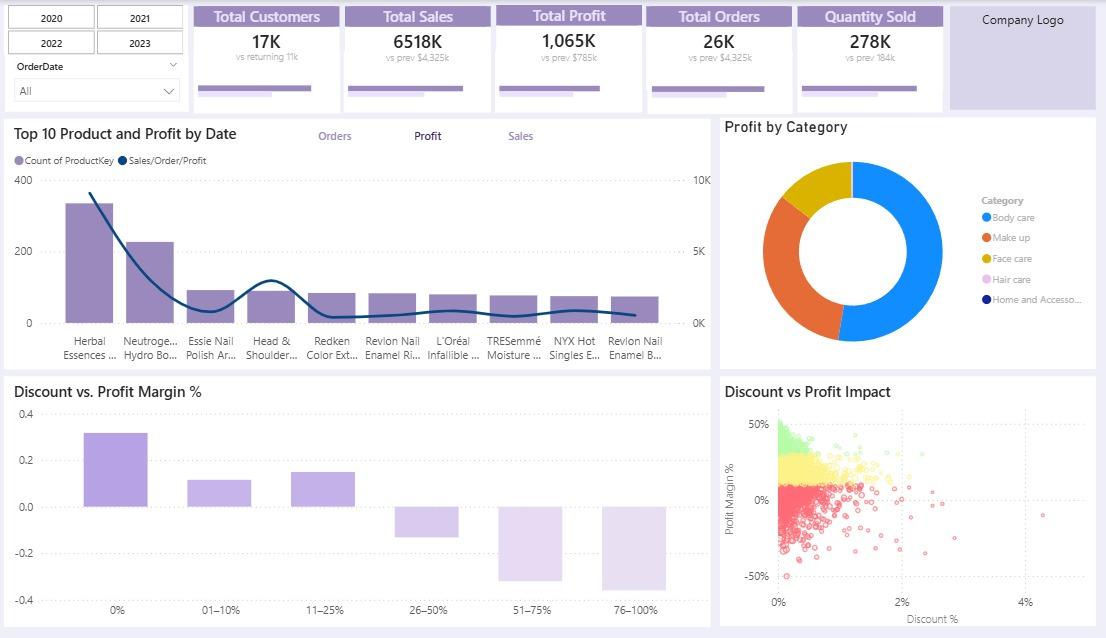

Layout of this report page (visuals, bound fields, positions):
{"tool":"powerbi","page":{"name":"Product Performance","canvas":[1280,720],"ordinal":2},"visuals":[{"type":"lineStackedColumnComboChart","fields":{"Category":["Product Dim.Product"],"Y2":["Measure.Line_Chart_Measures"],"Y":["CountNonNull(Sales Fact.ProductKey)"]},"box":[69.3,130.7,776.1,275],"z":0},{"type":"card","title":"Total Customers","fields":{"Values":["Trends.Total Customers"]},"box":[278.4,6.8,160.2,92],"z":1000},{"type":"advancedSlicerVisual","fields":{"Values":["Date Dim.OrderYear"]},"box":[69.3,5.7,202.3,54.5],"z":2000},{"type":"slicer","fields":{"Values":["Date Dim.OrderDate"]},"box":[70.9,59.9,201.8,62.4],"z":3000},{"type":"clusteredBarChart","fields":{"Y":["Trends.Total Customers","Trends.Repeat Customers"]},"box":[278.6,54.9,160.5,70],"z":4000},{"type":"card","title":"Total Orders","fields":{"Values":["Measure.Total Order"]},"box":[775.7,7,160,92],"z":5000},{"type":"clusteredBarChart","fields":{"Y":["Measure.Total Sales","Measure.Total Sales LY"]},"box":[776.7,56.3,159.2,68.6],"z":6000},{"type":"card","title":"Quantity Sold","fields":{"Values":["Measure.Quantity Sold"]},"box":[941.1,7,160,92],"z":7000},{"type":"clusteredBarChart","fields":{"Y":["Measure.Quantity Sold","Measure.Quantity Sold LY"]},"box":[941.3,56.3,159.2,67.2],"z":8000},{"type":"donutChart","title":"Profit by Category","fields":{"Category":["Product Dim.Category"],"Y":["Sum(Sales Fact.Profit)"]},"box":[856.3,129,413,275.8],"z":9000},{"type":"scatterChart","title":"Discount vs Profit Impact ","fields":{"Category":["Product Dim.Product"],"X":["Product Performance.Discount %"],"Y":["Product Performance.Profit Margin %"],"Size":["Sum(Sales Fact.Sales)"]},"box":[856.3,413,413,274.4],"z":10000},{"type":"advancedSlicerVisual","fields":{"Values":["Line_Selection_Table.Type"]},"box":[381.8,129.5,309.1,34.1],"z":11000},{"type":"card","title":"Total Profit","fields":{"Values":["Sum(Sales Fact.Profit)"]},"box":[610.2,5.7,160.2,92],"z":12000},{"type":"clusteredBarChart","fields":{"Y":["Measure.Total Profit","Measure.Total Profit LY"]},"box":[609.3,56.3,161.9,67.2],"z":13000},{"type":"card","title":"Total Sales","fields":{"Values":["Sum(Sales Fact.Sales)"]},"box":[444.3,6.8,160.2,92],"z":14000},{"type":"clusteredBarChart","fields":{"Y":["Measure.Total Sales","Measure.Total Sales LY"]},"box":[443.2,56.3,161.9,67.2],"z":15000},{"type":"clusteredColumnChart","title":"Discount vs. Profit Margin %","fields":{"Category":["Sales Fact.Discount Band"],"Y":["Product Performance.Profit Margin %"]},"box":[69.3,413.6,776.1,275],"z":16000},{"type":"textbox","box":[1109.1,6.8,160.2,113.6],"z":17000}]}

Visuals, with their boxes in screenshot pixels (x1, y1, x2, y2), scaled from the page's 1280x720 canvas onto the 1106x638 screenshot:
lineStackedColumnComboChart - Product Dim.Product x Measure.Line_Chart_Measures: bbox(60, 116, 730, 359)
"Total Customers" card: bbox(241, 6, 379, 88)
advancedSlicerVisual - Date Dim.OrderYear: bbox(60, 5, 235, 53)
slicer - Date Dim.OrderDate: bbox(61, 53, 236, 108)
clusteredBarChart - Trends.Total Customers x Trends.Repeat Customers: bbox(241, 49, 379, 111)
"Total Orders" card: bbox(670, 6, 809, 88)
clusteredBarChart - Measure.Total Sales x Measure.Total Sales LY: bbox(671, 50, 809, 111)
"Quantity Sold" card: bbox(813, 6, 951, 88)
clusteredBarChart - Measure.Quantity Sold x Measure.Quantity Sold LY: bbox(813, 50, 951, 109)
"Profit by Category" donutChart: bbox(740, 114, 1097, 359)
"Discount vs Profit Impact " scatterChart: bbox(740, 366, 1097, 609)
advancedSlicerVisual - Line_Selection_Table.Type: bbox(330, 115, 597, 145)
"Total Profit" card: bbox(527, 5, 666, 87)
clusteredBarChart - Measure.Total Profit x Measure.Total Profit LY: bbox(526, 50, 666, 109)
"Total Sales" card: bbox(384, 6, 522, 88)
clusteredBarChart - Measure.Total Sales x Measure.Total Sales LY: bbox(383, 50, 523, 109)
"Discount vs. Profit Margin %" clusteredColumnChart: bbox(60, 366, 730, 610)
textbox: bbox(958, 6, 1097, 107)
